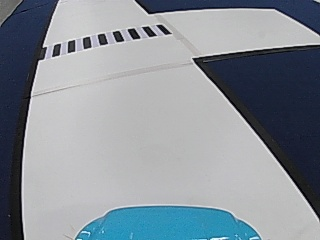CrossWalk: (42, 23, 168, 57)
